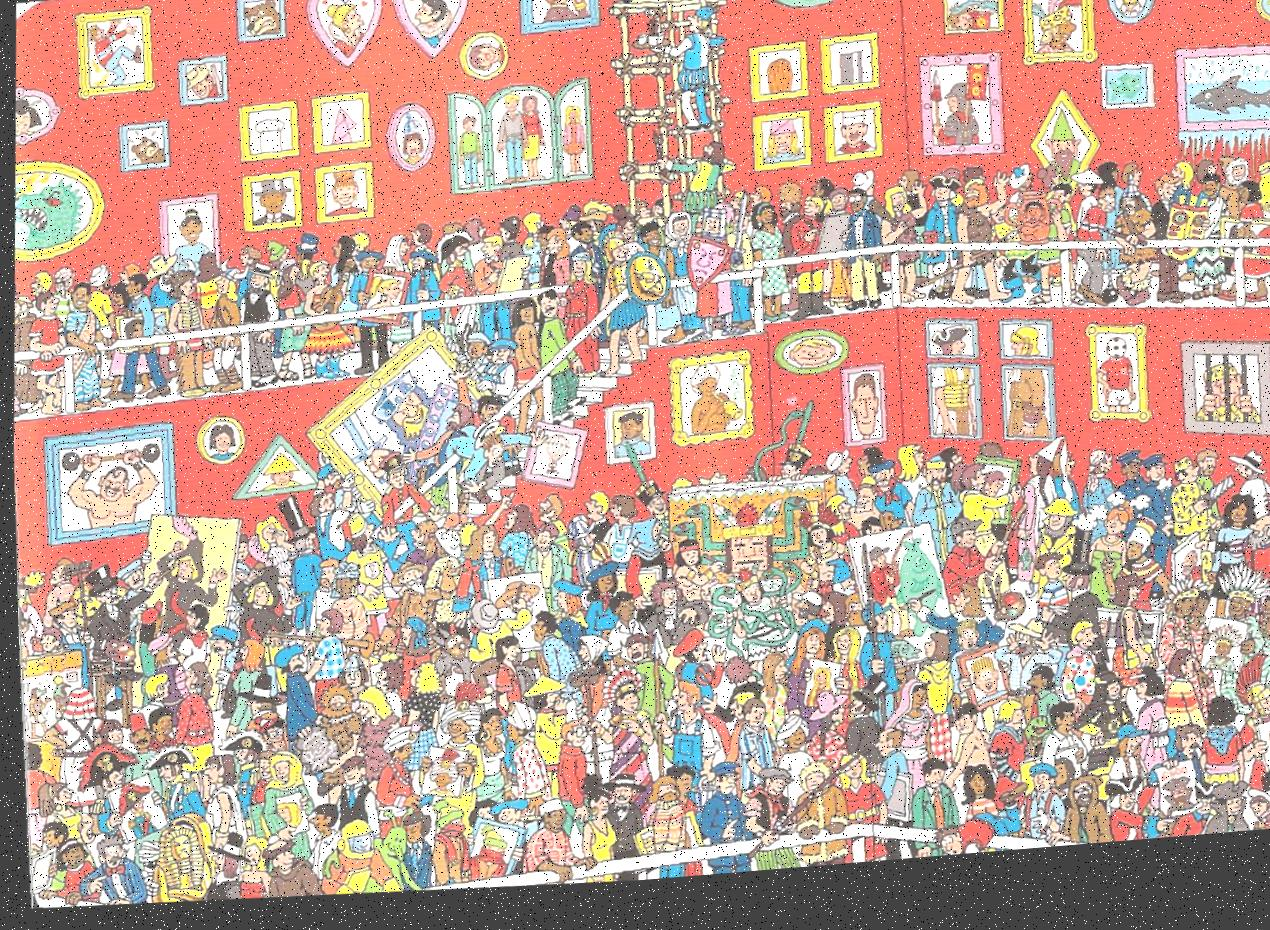waldo: (248, 718, 280, 754)
